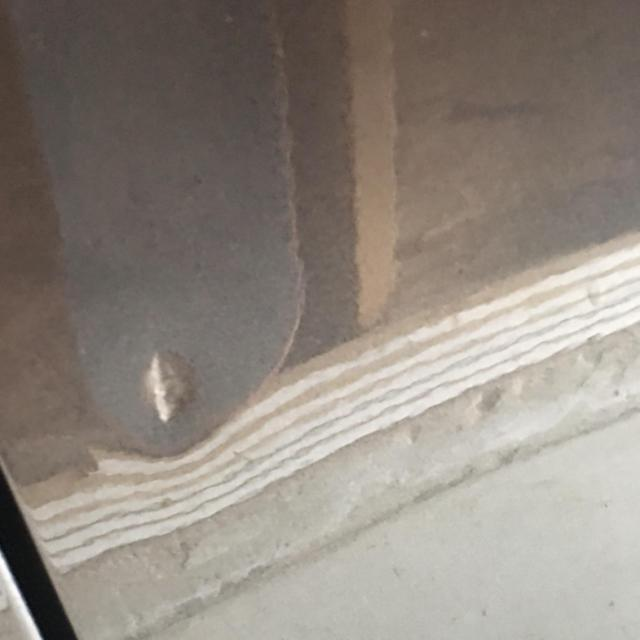dents: (121, 350, 218, 431)
